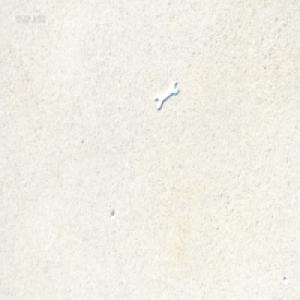Wrench: (154, 80, 179, 110)
